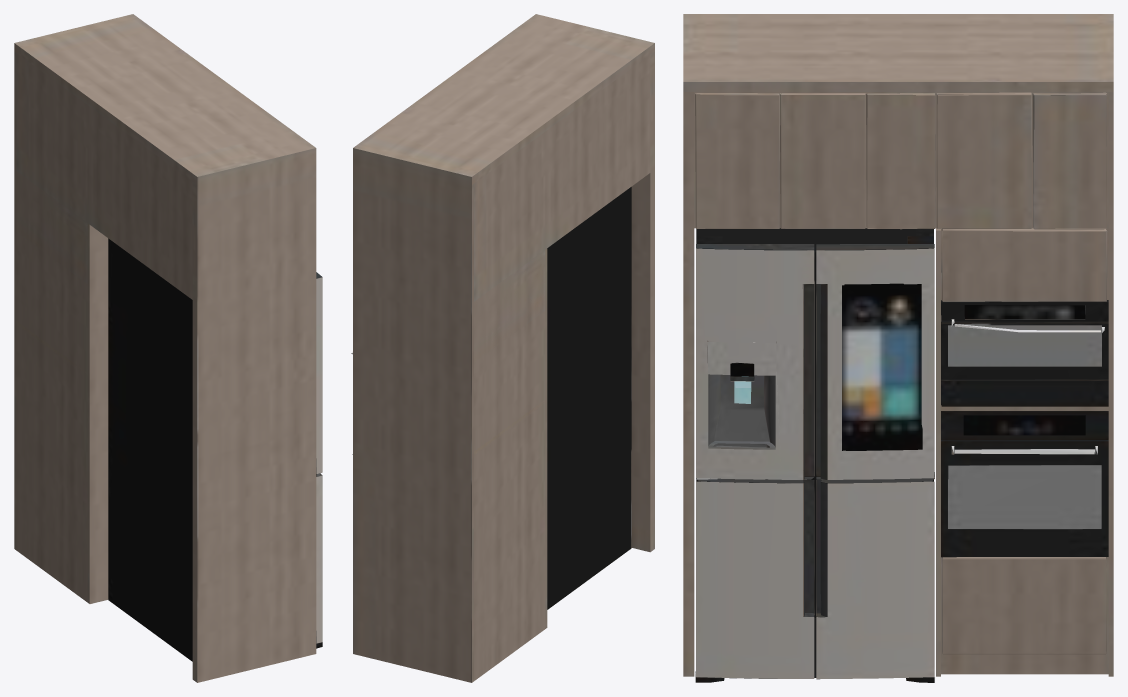
File: Cupboard0020.obj
3 renders of one model, left to right at view 1: azimuth 30°, elevation 25°; view 2: azimuth 150°, elevation 25°; view 3: azimuth 270°, elevation 25°, orthographic. The views are drawn at different scales.
Bounding box in the file's own units: 0.677 × 2.44 × 1.6.
1 material, 1 textured.
